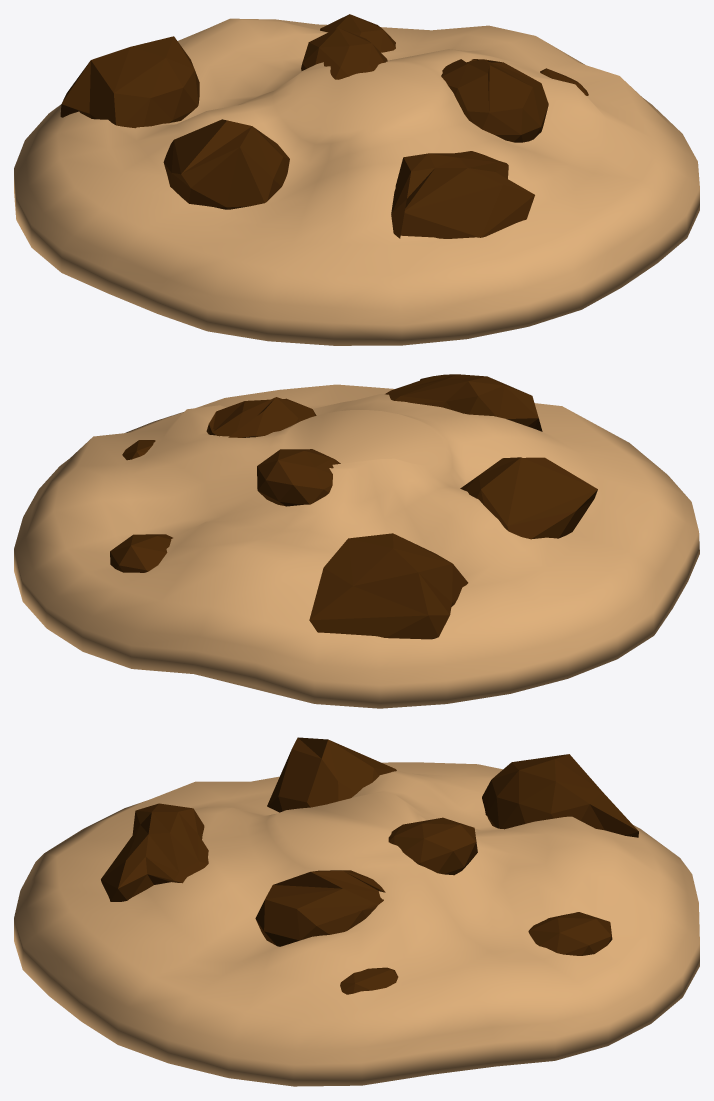
The model's file is Cookie.fbx.
3 views of the same model, one above another, from view 1: azimuth 30°, elevation 25°; view 2: azimuth 150°, elevation 25°; view 3: azimuth 270°, elevation 25° (orthographic).
Parts seen in each view (by area): view 1: Cylinder, Icosphere, Icosphere.002, Icosphere.001, Icosphere.004, Icosphere.005, Icosphere.003; view 2: Cylinder, Icosphere.002, Icosphere.001, Icosphere, Icosphere.005, Icosphere.004, Icosphere.003; view 3: Cylinder, Icosphere.002, Icosphere.004, Icosphere, Icosphere.001, Icosphere.005, Icosphere.003, Icosphere.006.
Boxes of the visible parts, x1,y1,x2,y2 form: Cylinder: (14, 18, 699, 345); Icosphere: (391, 151, 534, 238); Icosphere.002: (60, 36, 199, 128); Icosphere.001: (163, 119, 289, 209); Icosphere.004: (441, 59, 548, 142); Icosphere.005: (301, 28, 387, 79); Icosphere.003: (320, 14, 395, 52); Cylinder: (14, 384, 699, 708); Icosphere.002: (309, 533, 468, 639); Icosphere.001: (460, 457, 597, 539); Icosphere: (385, 374, 542, 431); Icosphere.005: (257, 449, 340, 506); Icosphere.004: (206, 397, 316, 437); Icosphere.003: (110, 534, 172, 572); Cylinder: (14, 762, 699, 1086); Icosphere.002: (482, 754, 638, 837); Icosphere.004: (255, 870, 385, 946); Icosphere: (101, 803, 208, 901); Icosphere.001: (267, 737, 396, 812); Icosphere.005: (388, 817, 477, 875); Icosphere.003: (528, 912, 612, 955); Icosphere.006: (340, 967, 398, 994).
Size of the model in its own units: 198 by 42.2 by 197.
